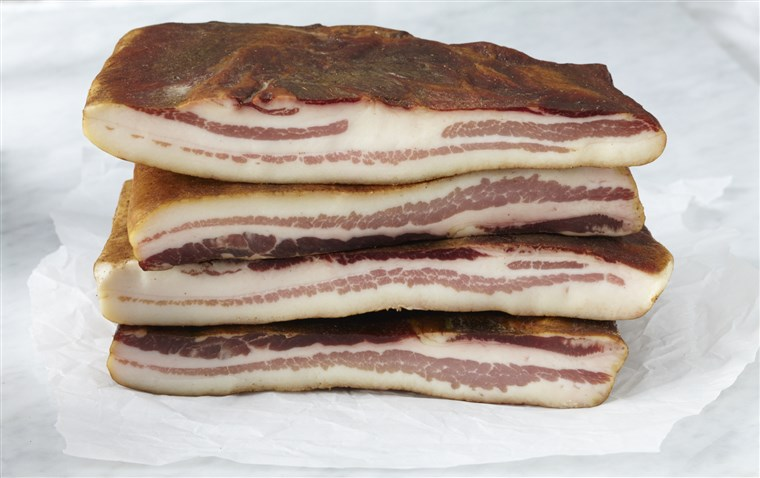bacon: (57, 32, 672, 418)
